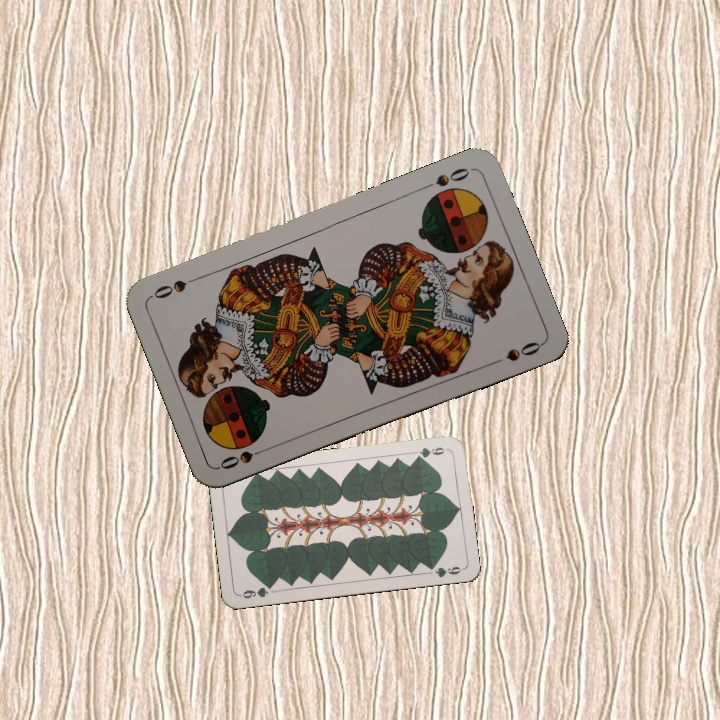G9: (236, 580, 276, 601), (411, 443, 450, 462)
SO: (215, 443, 272, 472), (418, 163, 474, 192)
